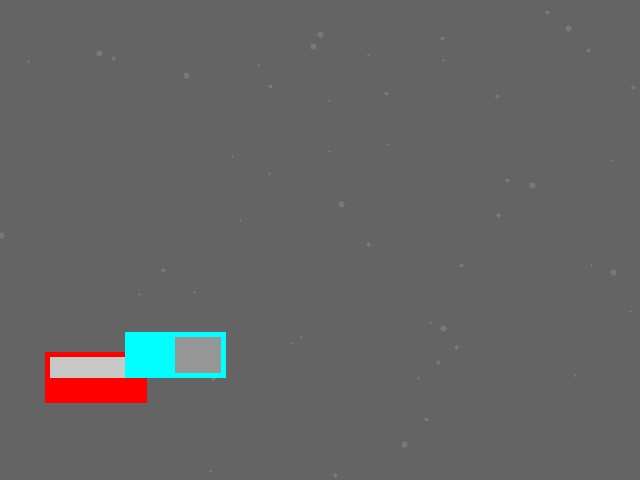car: (45, 352, 146, 402)
truck: (125, 332, 225, 377)
